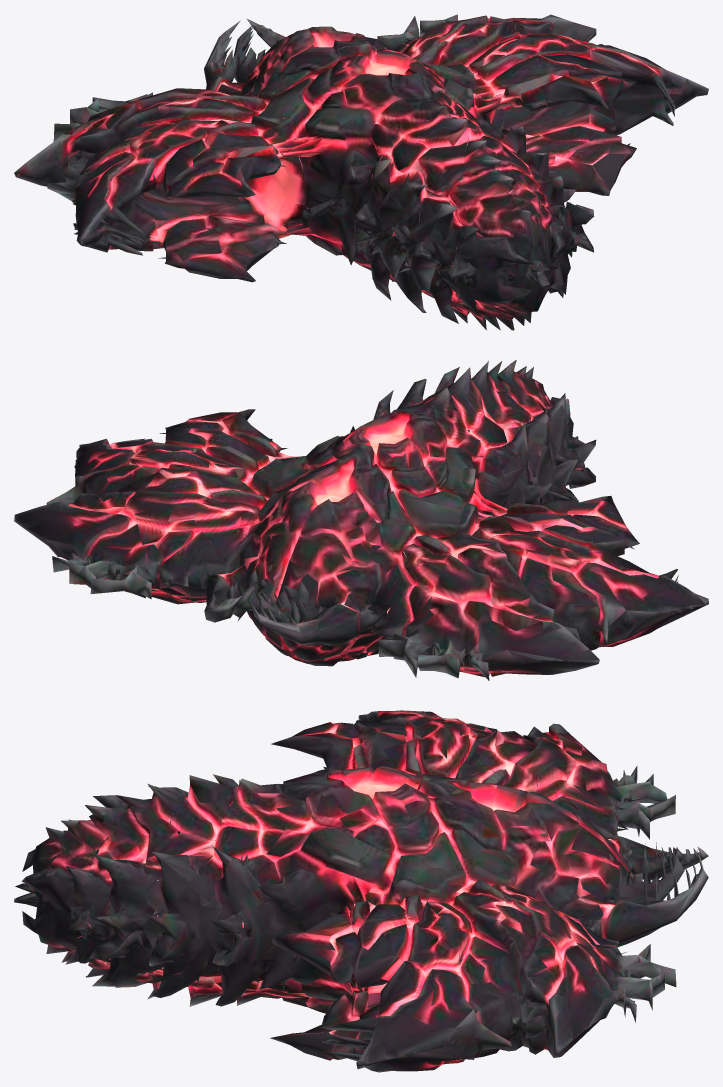
File: vexor-cola.glb
3 views of the same model, one above another, from view 1: azimuth 30°, elevation 25°; view 2: azimuth 150°, elevation 25°; view 3: azimuth 270°, elevation 25° (orthographic). The views are drawn at different scales.
Parts seen in each view (by area): view 1: vexor_ala_izq, vexor_cuerpo, vexor_ala_der, vexor_cola_2, vexor_cola_1, vexor_cola_3; view 2: vexor_cuerpo, vexor_ala_izq, vexor_ala_der, vexor_cola_1, vexor_cola_2, vexor_cola_3; view 3: vexor_cuerpo, vexor_ala_der, vexor_ala_izq, vexor_cola_2, vexor_cola_1, vexor_cola_3.
Part boxes in pixels (<box>): vexor_ala_izq: <box>14,88,310,282</box>; vexor_cuerpo: <box>200,19,525,281</box>; vexor_ala_der: <box>377,14,708,195</box>; vexor_cola_2: <box>392,140,594,330</box>; vexor_cola_1: <box>356,107,566,323</box>; vexor_cola_3: <box>446,180,590,325</box>; vexor_cuerpo: <box>184,387,540,666</box>; vexor_ala_izq: <box>370,496,708,680</box>; vexor_ala_der: <box>14,409,290,604</box>; vexor_cola_1: <box>378,367,578,552</box>; vexor_cola_2: <box>435,360,596,488</box>; vexor_cola_3: <box>459,366,584,485</box>; vexor_cuerpo: <box>213,766,708,1013</box>; vexor_ala_der: <box>270,878,676,1072</box>; vexor_ala_izq: <box>271,710,675,893</box>; vexor_cola_2: <box>61,783,188,999</box>; vexor_cola_1: <box>146,774,260,1006</box>; vexor_cola_3: <box>14,808,110,965</box>.
Size of the model in its own units: 1.91 by 0.5935 by 1.61.
Materials: 1 (1 with a texture image).
